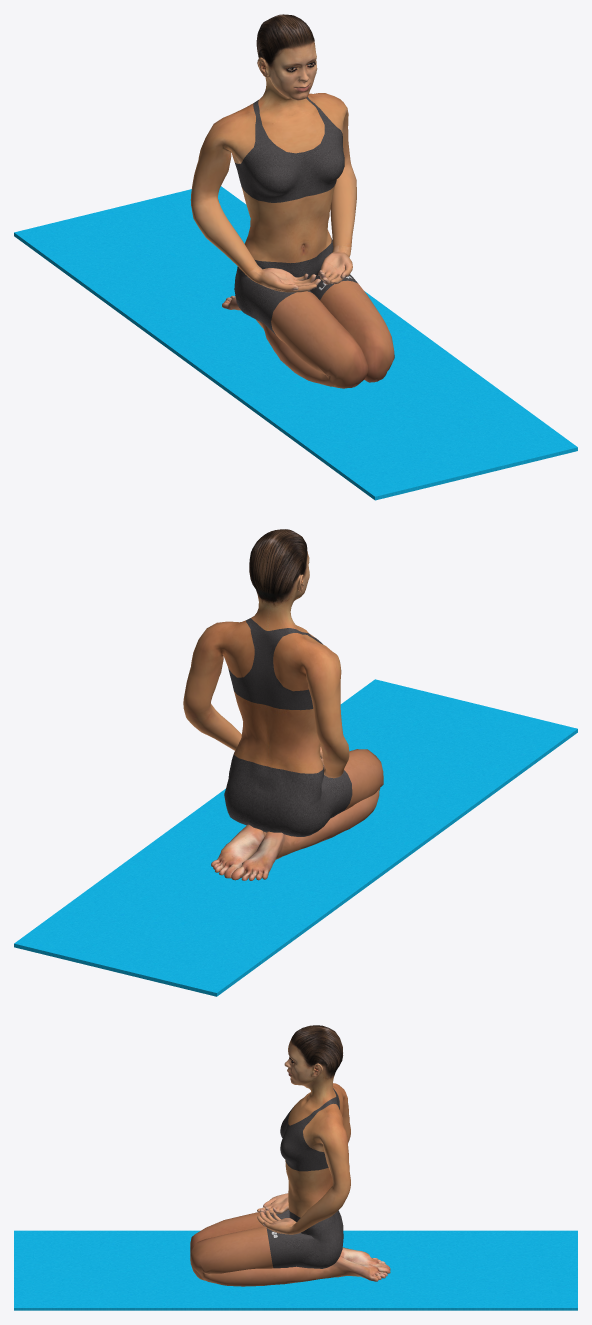
Rendered from vajrasana.glb.
3 renders of one model, top to bottom at view 1: azimuth 30°, elevation 25°; view 2: azimuth 150°, elevation 25°; view 3: azimuth 270°, elevation 25°, orthographic. The views are drawn at different scales.
Parts seen in each view (by area): view 1: Mat-one-piece_jpg-material, Lily_Texture01_06_2016_jpg-material; view 2: Mat-one-piece_jpg-material, Lily_Texture01_06_2016_jpg-material; view 3: Mat-one-piece_jpg-material, Lily_Texture01_06_2016_jpg-material.
Boxes of the visible parts, <box> form: Mat-one-piece_jpg-material: <box>14,186,577,500</box>; Lily_Texture01_06_2016_jpg-material: <box>190,14,394,388</box>; Mat-one-piece_jpg-material: <box>14,679,577,996</box>; Lily_Texture01_06_2016_jpg-material: <box>183,529,383,880</box>; Mat-one-piece_jpg-material: <box>14,1230,577,1310</box>; Lily_Texture01_06_2016_jpg-material: <box>190,1025,390,1286</box>.
Size of the model in its own units: 2 by 2.97 by 6.17.
Materials: 3 (2 with a texture image).
